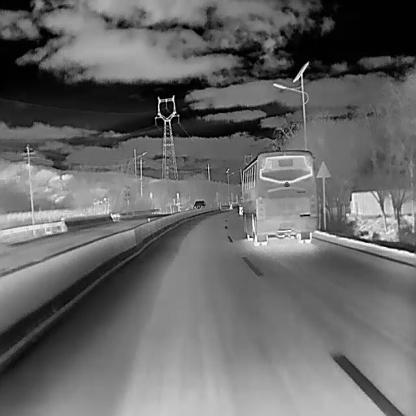car: (235, 145, 319, 250), (191, 195, 207, 213)
